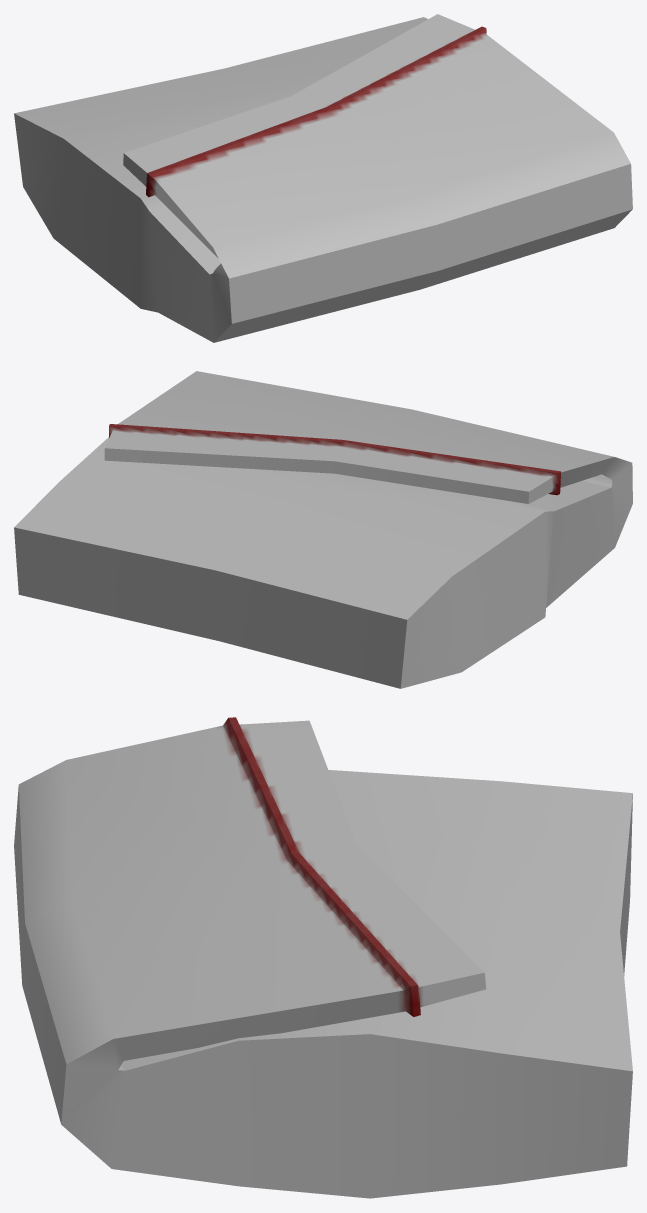
Rendered from SM_BagDrug01.fbx.
The picture shows the model from 3 angles, top to bottom: view 1: azimuth 30°, elevation 25°; view 2: azimuth 150°, elevation 25°; view 3: azimuth 270°, elevation 25°; orthographic projection. The views are drawn at different scales.
Visible parts, largest first — view 1: SM_Bag01; view 2: SM_Bag01; view 3: SM_Bag01.
Boxes of the visible parts, x1,y1,x2,y2 form: SM_Bag01: [14, 14, 632, 342]; SM_Bag01: [14, 371, 632, 688]; SM_Bag01: [14, 717, 632, 1198].
Size of the model in its own units: 6.29 by 2.02 by 5.78.
